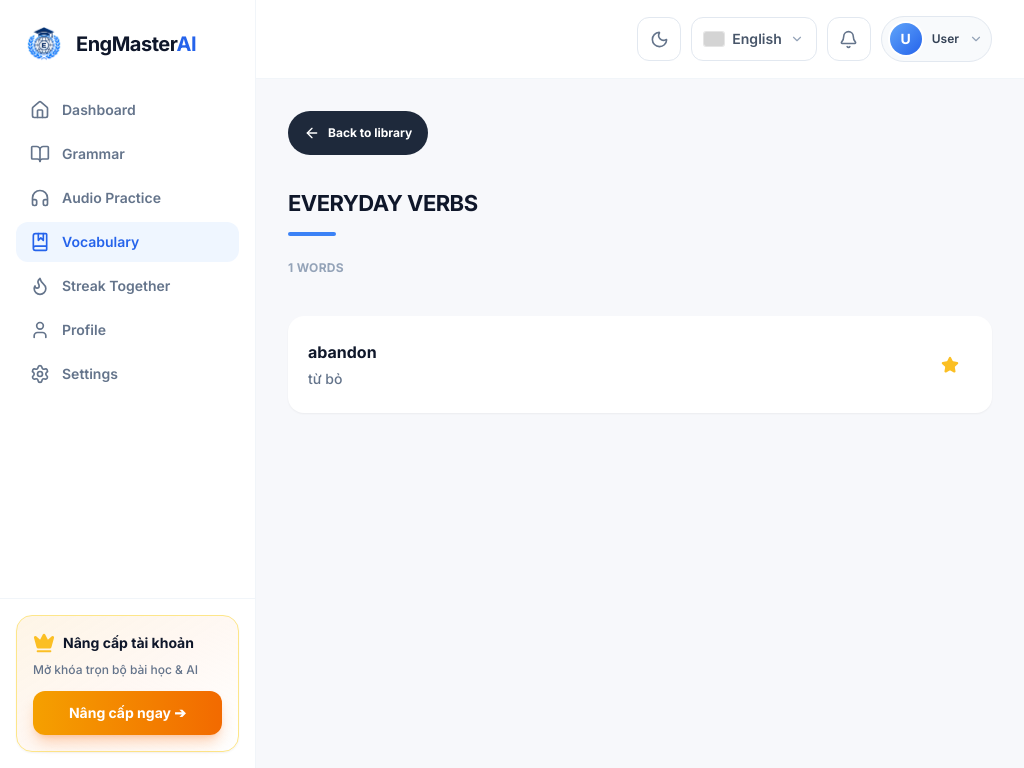
Test case: DeckDetailPage — universal save-star › shows an already-filled star for a word already in My Vocabulary, and unsaves it after confirming
What coordinates should you click on to do the following:
click the button named "Remove from My Vocabulary"
I would click on:
 (950, 364)
Its box is [928,342,972,386].
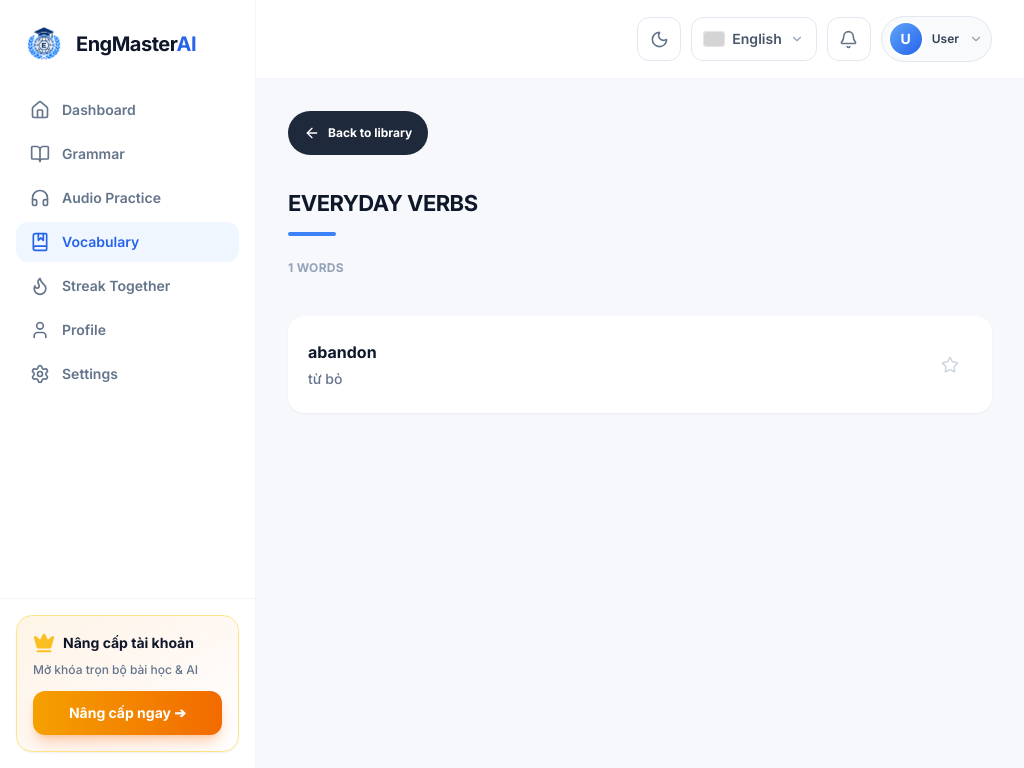
expect the button named "Save to My Vocabulary" is shown: met, box [928,342,972,386]
